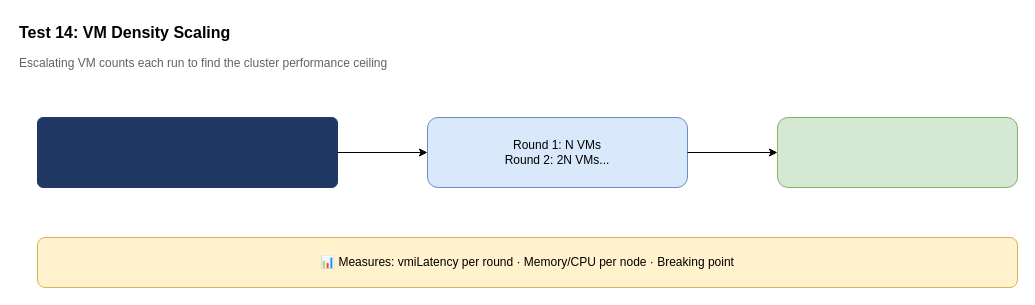
This 1035x305 diagram has some shape labels left out. The shapes that lost their labels are listed below. From the top down, each one's centre as x and y in pixels, then its label:
At point (187, 152): "kube-burner Job (quay.io/kube-burner/kube-burner:v2.6.1)".
At point (897, 152): "P99 climbs each round ceiling identified".
